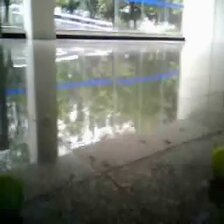tennis: (1, 172, 25, 224), (210, 147, 224, 188)
